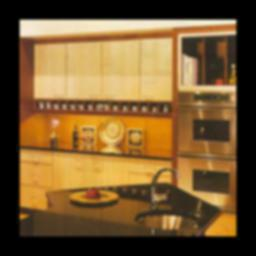Electrodomestico: (178, 106, 236, 208)
Lavaplatos: (136, 167, 200, 227)
